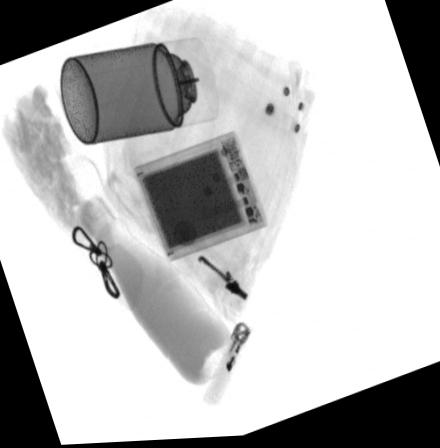Lighter: (202, 327, 249, 411)
Powerbank: (130, 133, 269, 264)
Sprayer: (61, 38, 218, 145)
